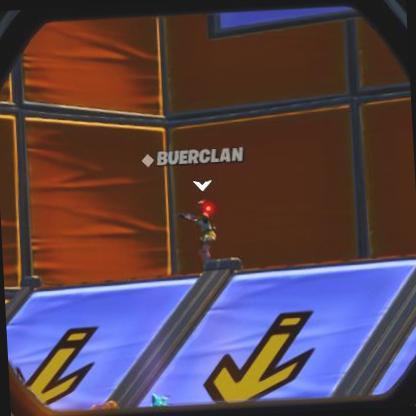person: (195, 200, 226, 270)
